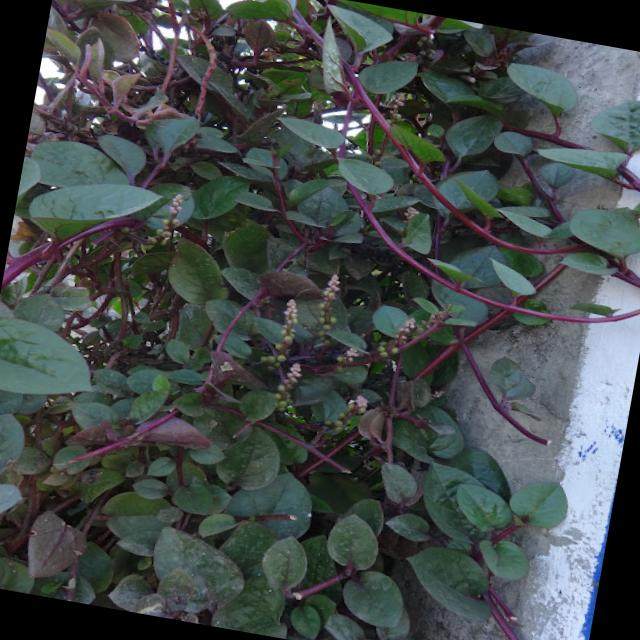Medicinal-Basale: (0, 27, 599, 640)
